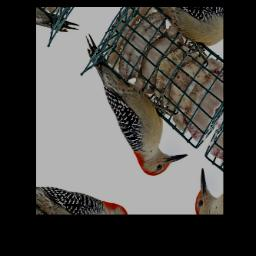Woodpecker: (50, 31, 204, 192)
